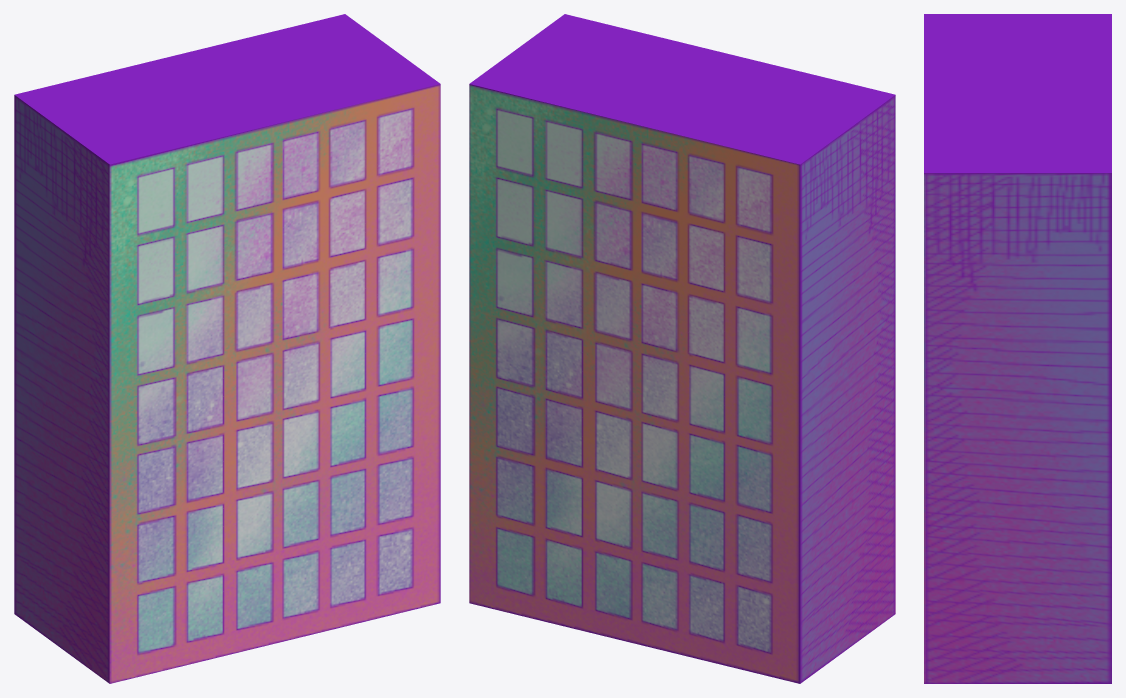
Rendered from Build_C_Bot.obj.
3 renders of one model, left to right at view 1: azimuth 30°, elevation 25°; view 2: azimuth 150°, elevation 25°; view 3: azimuth 270°, elevation 25°, orthographic.
Visible parts, largest first — view 1: Build_C_Bot; view 2: Build_C_Bot; view 3: Build_C_Bot.
Boxes of the visible parts, <box> form: Build_C_Bot: <box>14,14,440,683</box>; Build_C_Bot: <box>469,14,895,683</box>; Build_C_Bot: <box>924,14,1111,683</box>.
Bounding box in the file's own units: 40 × 60 × 20.
1 material, 1 textured.
